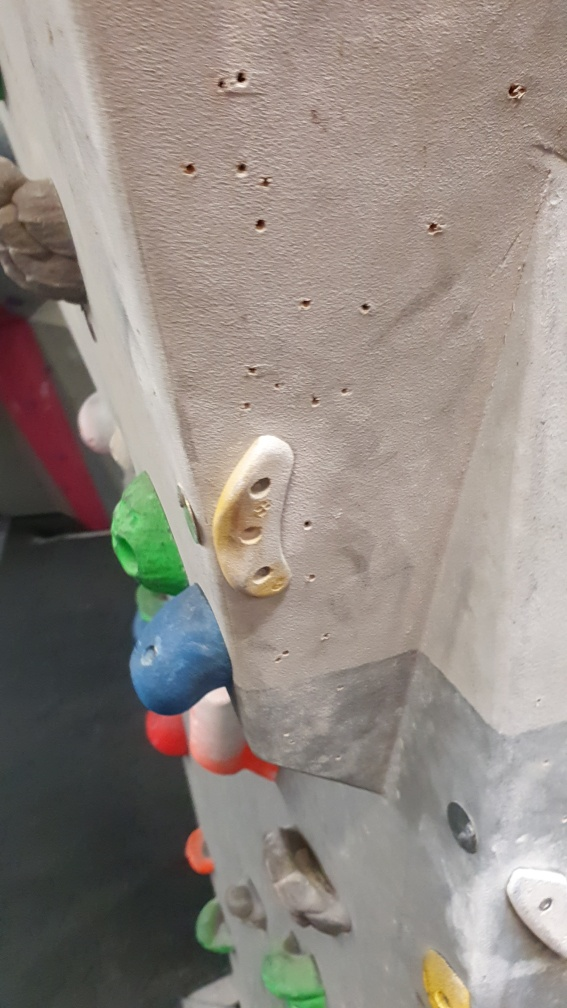Crimp: (216, 432, 300, 602)
Hand Start: (444, 801, 481, 855)
Jug: (261, 820, 352, 939)
Pinch: (190, 688, 284, 783)
Sloper: (127, 585, 239, 719)
